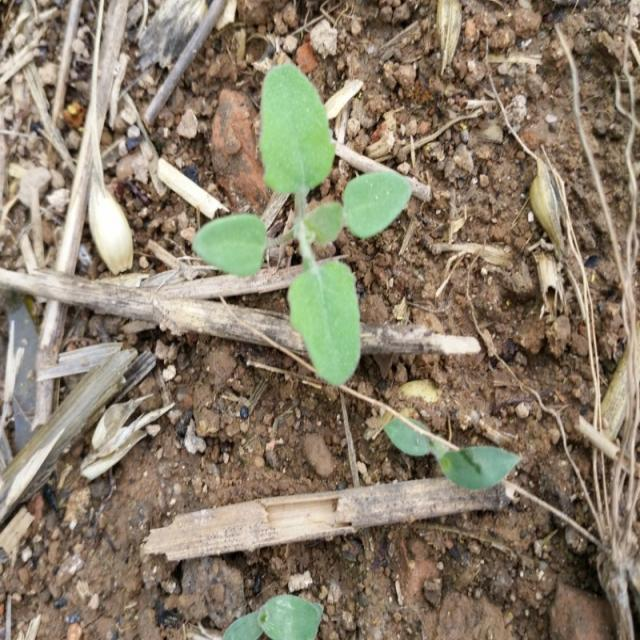ca: (200, 70, 412, 385)
